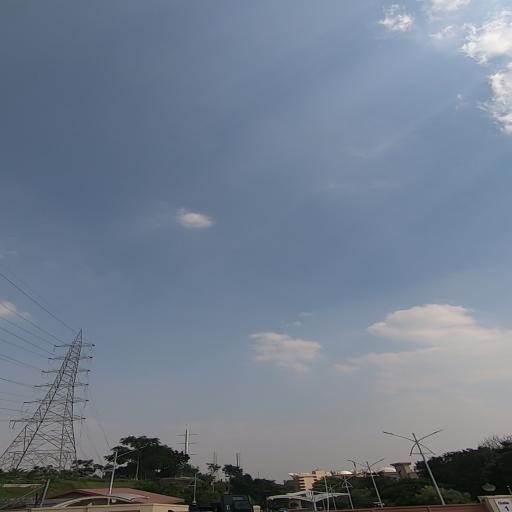Street_light: (378, 430, 412, 442), (416, 427, 445, 440), (371, 456, 387, 468), (345, 459, 366, 467)
